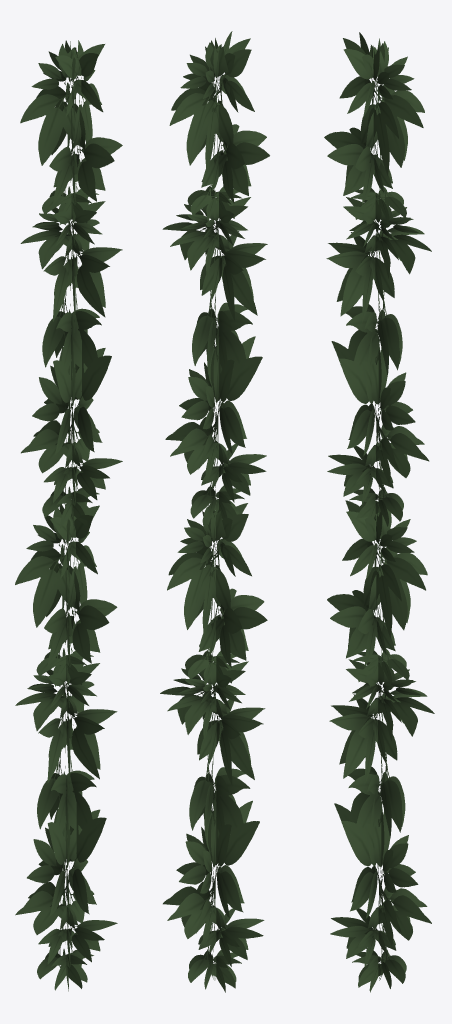
File: Plante_tombante.fbx
3 views of the same model, side by side, from view 1: azimuth 90°, elevation 25°; view 2: azimuth 150°, elevation 25°; view 3: azimuth 330°, elevation 25° (orthographic).
Visible parts, largest first — view 1: polySurface52; view 2: polySurface52; view 3: polySurface52.
Boxes of the visible parts, x1=… form: polySurface52: x1=15, y1=40, x2=122, y2=991; polySurface52: x1=160, y1=31, x2=269, y2=992; polySurface52: x1=324, y1=32, x2=434, y2=992.
Bounding box in the file's own units: 0.1967 × 1.54 × 0.167.
